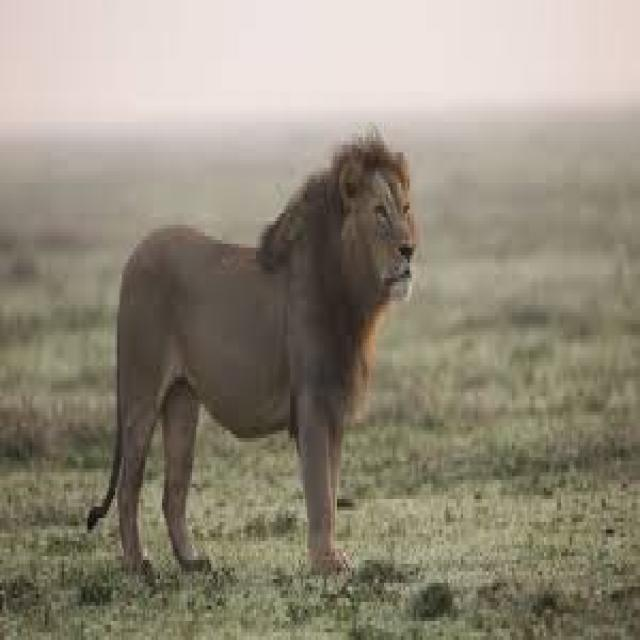Lion: (117, 139, 418, 573)
